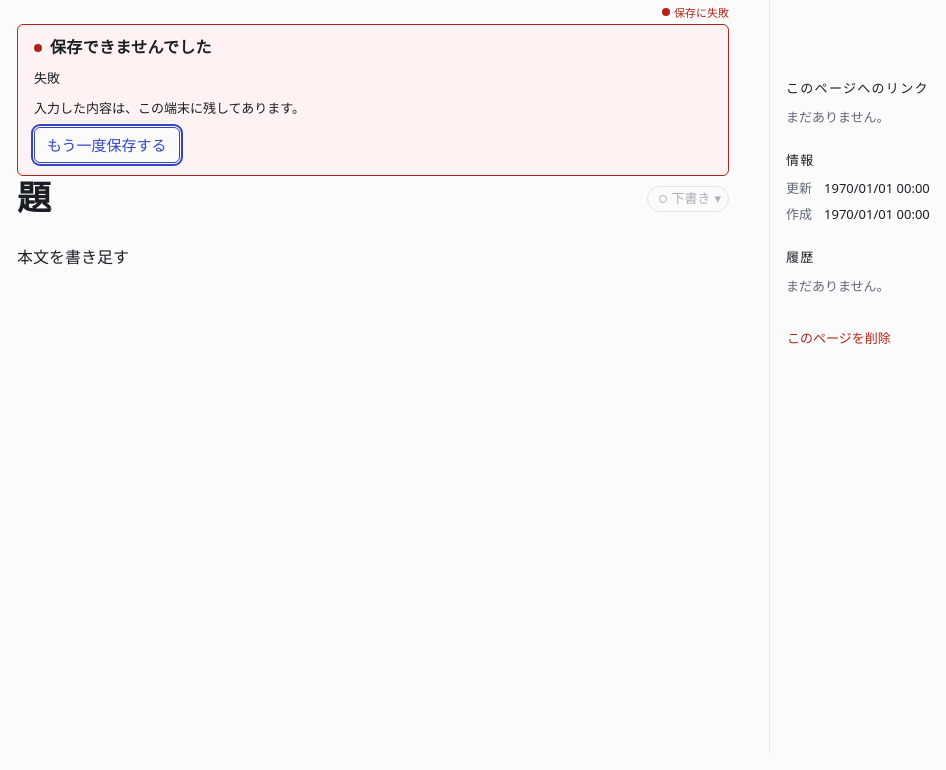
Test case: PageEditor と本文のエディタ › 再送のボタンへ focus を戻す印 › 再送が題名の重複で止まったら印を捨て、title の欄へ移し、後から現れる別の失敗のボタンへ移さない
What coordinates should you click on to do the following:
click the button "もう一度保存する"
I would click on:
 (107, 145)
Its box is [34,127,180,163].
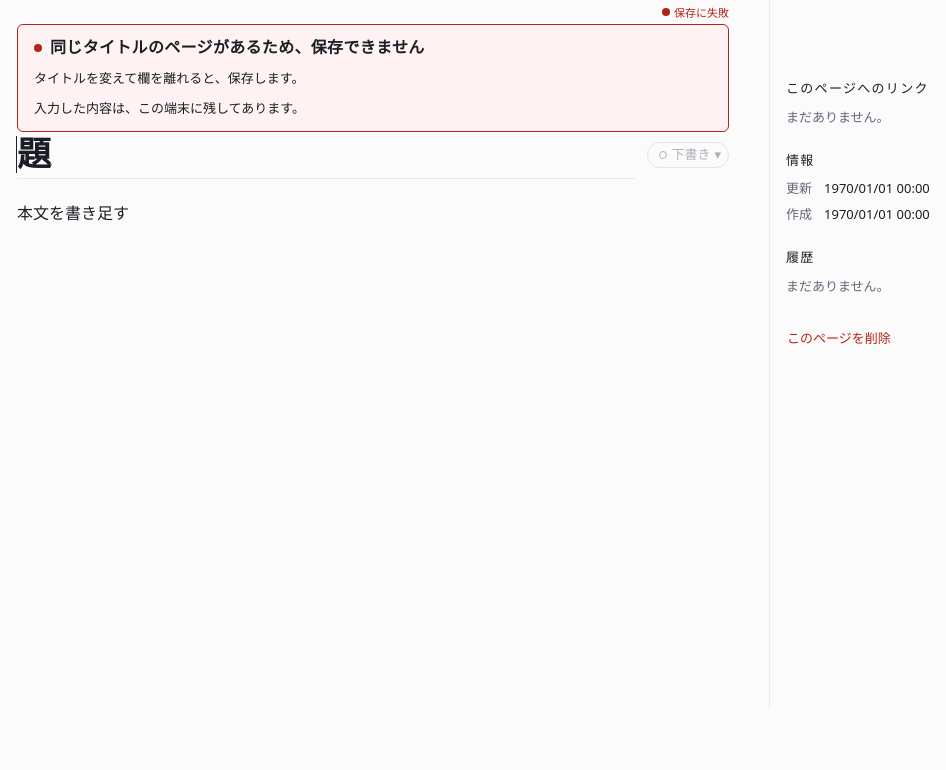
Result: the button with class "button-main" is gone
What coordinates should you click on to do the following:
click the button "このページを削除"
I would click on:
 (839, 339)
Its box is [786,321,892,357].
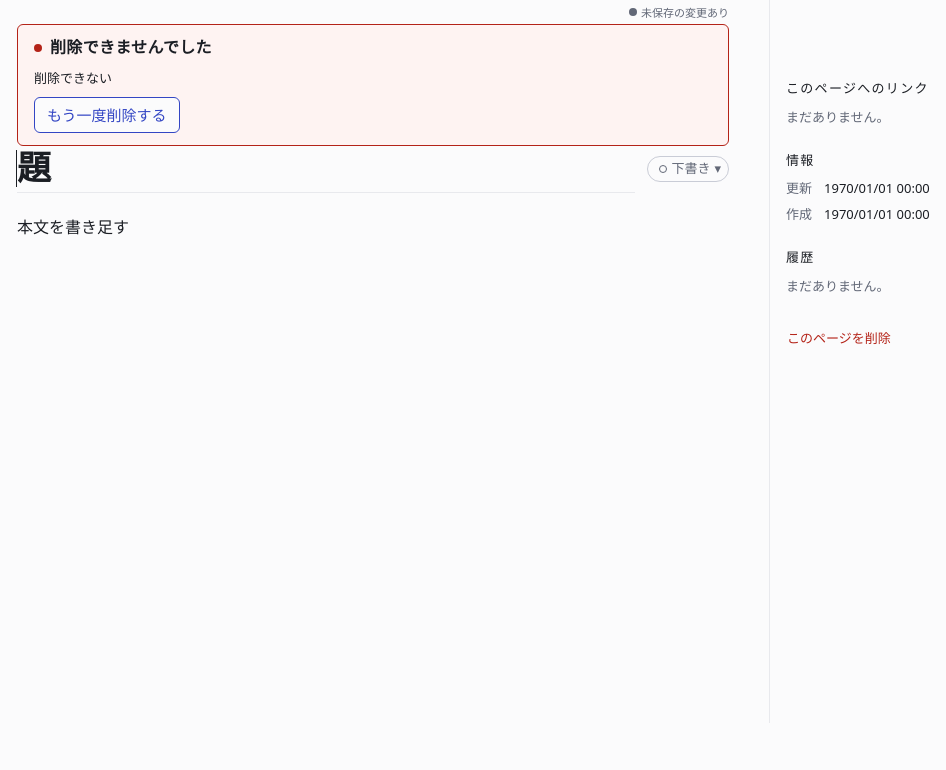
Result: the button with class "button-main" is shown at [34,97,180,133]
